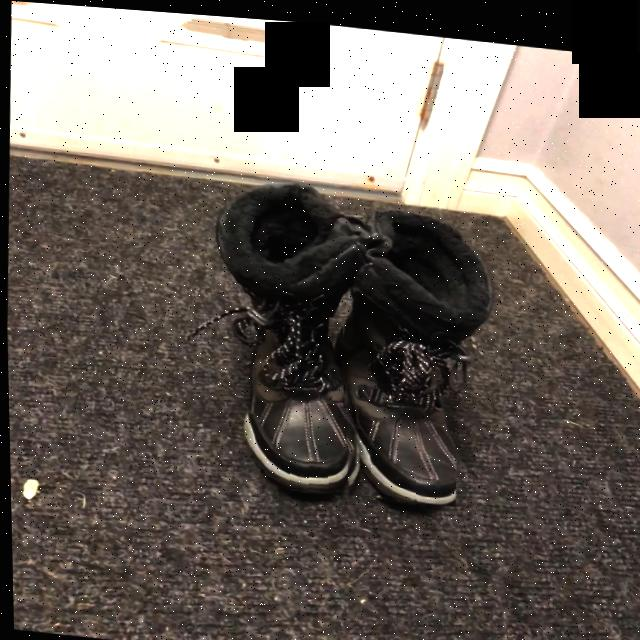shoe: (340, 292, 454, 497), (240, 304, 349, 486)
